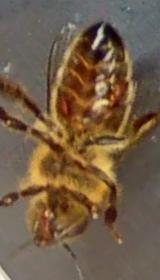varroa_mite: (103, 70, 131, 107), (53, 88, 73, 118)
